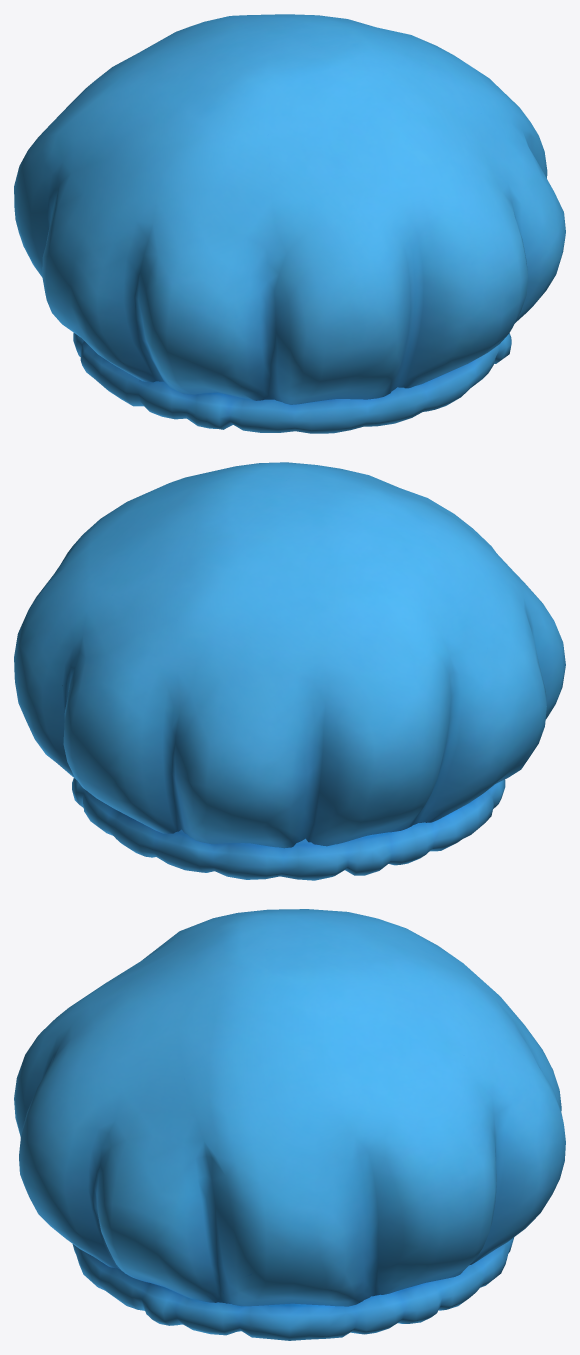
File: hat_hairnet.glb
3 renders of one model, top to bottom at view 1: azimuth 30°, elevation 25°; view 2: azimuth 150°, elevation 25°; view 3: azimuth 270°, elevation 25°, orthographic.
Parts seen in each view (by area): view 1: geometry_0; view 2: geometry_0; view 3: geometry_0.
Boxes of the visible parts, x1,y1,x2,y2 form: geometry_0: (14,14,565,433); geometry_0: (14,462,565,880); geometry_0: (14,909,565,1340).
Bounding box in the file's own units: 0.9512 × 0.5884 × 0.9429.
Materials: 1 (1 with a texture image).
